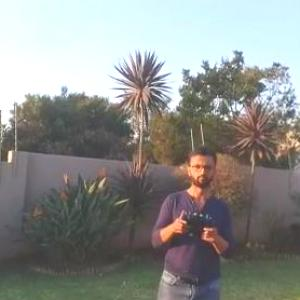follow: (146, 136, 241, 299)
